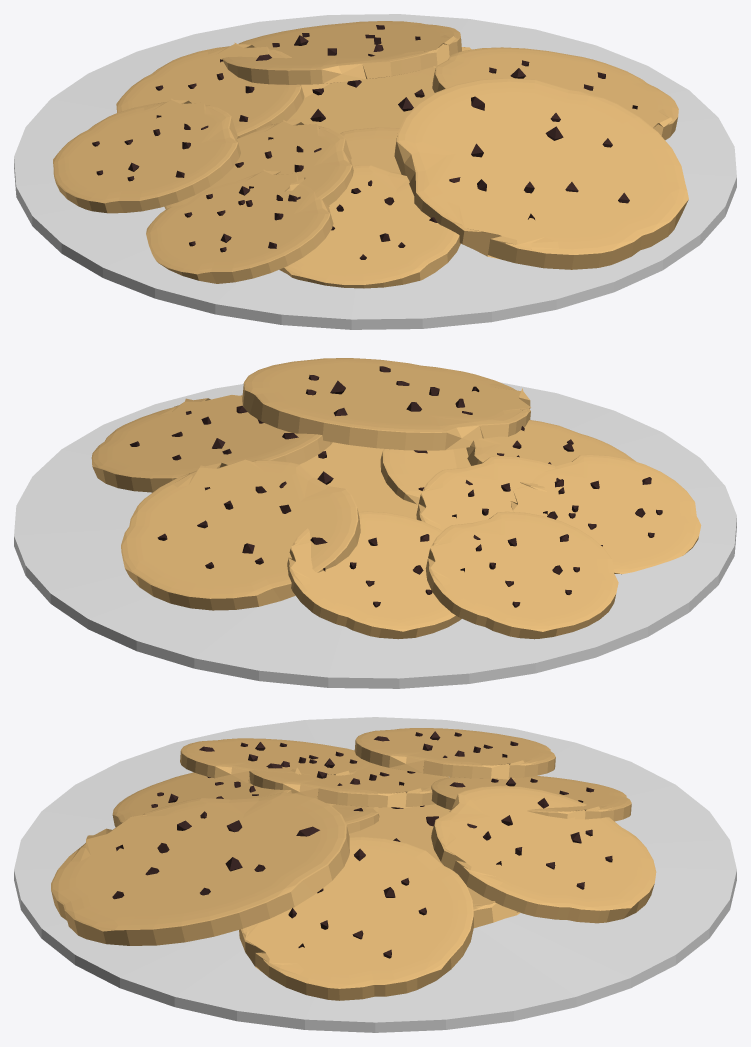
The model's file is cooockie.fbx.
The picture shows the model from 3 angles, top to bottom: view 1: azimuth 30°, elevation 25°; view 2: azimuth 150°, elevation 25°; view 3: azimuth 270°, elevation 25°; orthographic projection.
Visible parts, largest first — view 1: Cylinder.001, Cylinder.008, Cylinder.009, Cylinder.010, Cylinder.011, Cylinder.007, Cylinder.002, Cylinder.004, Cylinder.006, Cylinder, Cylinder.005; view 2: Cylinder.001, Cylinder.007, Cylinder.008, Cylinder.009, Cylinder.004, Cylinder.010, Cylinder.002, Cylinder.006, Cylinder, Cylinder.011, Cylinder.005; view 3: Cylinder.001, Cylinder.008, Cylinder.002, Cylinder.007, Cylinder.009, Cylinder.010, Cylinder.006, Cylinder.004, Cylinder.011, Cylinder, Cylinder.003, Cylinder.005.
Boxes of the visible parts, left/top/right/bottom form: Cylinder.001: left=14, top=14, right=736, bottom=329; Cylinder.008: left=394, top=78, right=688, bottom=269; Cylinder.009: left=53, top=98, right=240, bottom=213; Cylinder.010: left=146, top=169, right=333, bottom=283; Cylinder.011: left=279, top=165, right=460, bottom=288; Cylinder.007: left=222, top=21, right=461, bottom=84; Cylinder.002: left=432, top=47, right=678, bottom=140; Cylinder.004: left=116, top=42, right=304, bottom=138; Cylinder.006: left=164, top=120, right=353, bottom=209; Cylinder: left=287, top=67, right=435, bottom=174; Cylinder.005: left=340, top=127, right=400, bottom=172; Cylinder.001: left=14, top=382, right=736, bottom=688; Cylinder.007: left=121, top=459, right=360, bottom=610; Cylinder.008: left=242, top=358, right=530, bottom=450; Cylinder.009: left=425, top=511, right=618, bottom=639; Cylinder.004: left=287, top=511, right=461, bottom=639; Cylinder.010: left=510, top=454, right=701, bottom=574; Cylinder.002: left=91, top=395, right=332, bottom=492; Cylinder.006: left=416, top=456, right=575, bottom=530; Cylinder: left=300, top=442, right=470, bottom=519; Cylinder.011: left=466, top=420, right=636, bottom=491; Cylinder.005: left=380, top=449, right=456, bottom=504; Cylinder.001: left=14, top=717, right=736, bottom=1032; Cylinder.008: left=51, top=792, right=349, bottom=945; Cylinder.002: left=239, top=836, right=473, bottom=1000; Cylinder.007: left=431, top=785, right=656, bottom=923; Cylinder.009: left=354, top=728, right=555, bottom=779; Cylinder.010: left=180, top=738, right=369, bottom=783; Cylinder.006: left=249, top=758, right=448, bottom=808; Cylinder.004: left=431, top=776, right=631, bottom=821; Cylinder.011: left=112, top=767, right=301, bottom=827; Cylinder: left=327, top=803, right=450, bottom=865; Cylinder.003: left=467, top=887, right=520, bottom=928; Cylinder.005: left=332, top=804, right=379, bottom=833.
Size of the model in its own units: 475 by 67.95 by 475.
